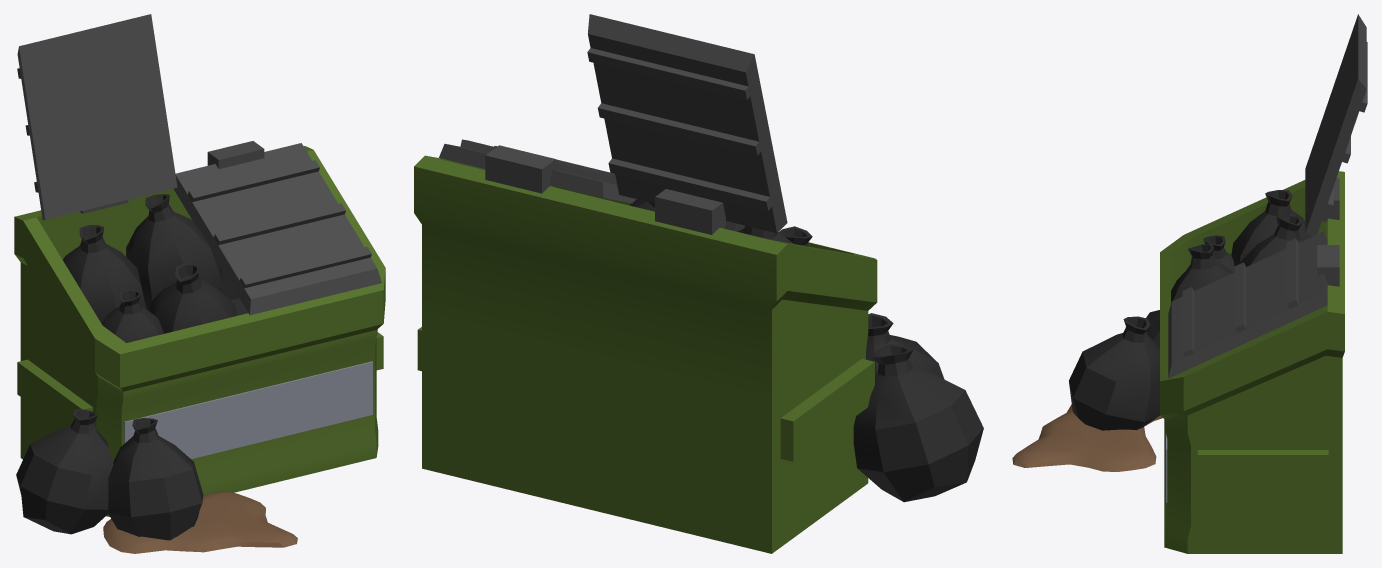
The model's file is quaternius-toon-shooter-game-kit-environment-gltf-trashcontainer-open.gltf.
The picture shows the model from 3 angles, left to right: view 1: azimuth 30°, elevation 25°; view 2: azimuth 150°, elevation 25°; view 3: azimuth 270°, elevation 25°; orthographic projection. The views are drawn at different scales.
Parts seen in each view (by area): view 1: TrashContainer_Open; view 2: TrashContainer_Open; view 3: TrashContainer_Open.
Boxes of the visible parts, bbox=[...] form: TrashContainer_Open: bbox=[14, 14, 385, 553]; TrashContainer_Open: bbox=[414, 14, 983, 553]; TrashContainer_Open: bbox=[1012, 14, 1367, 553].
Size of the model in its own units: 3.16 by 3.34 by 2.63.
